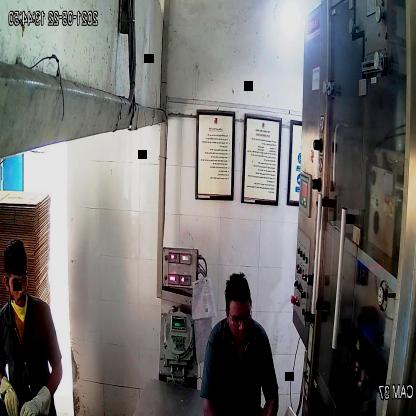goggles: (225, 304, 255, 331)
no_goggles: (6, 266, 29, 290)
